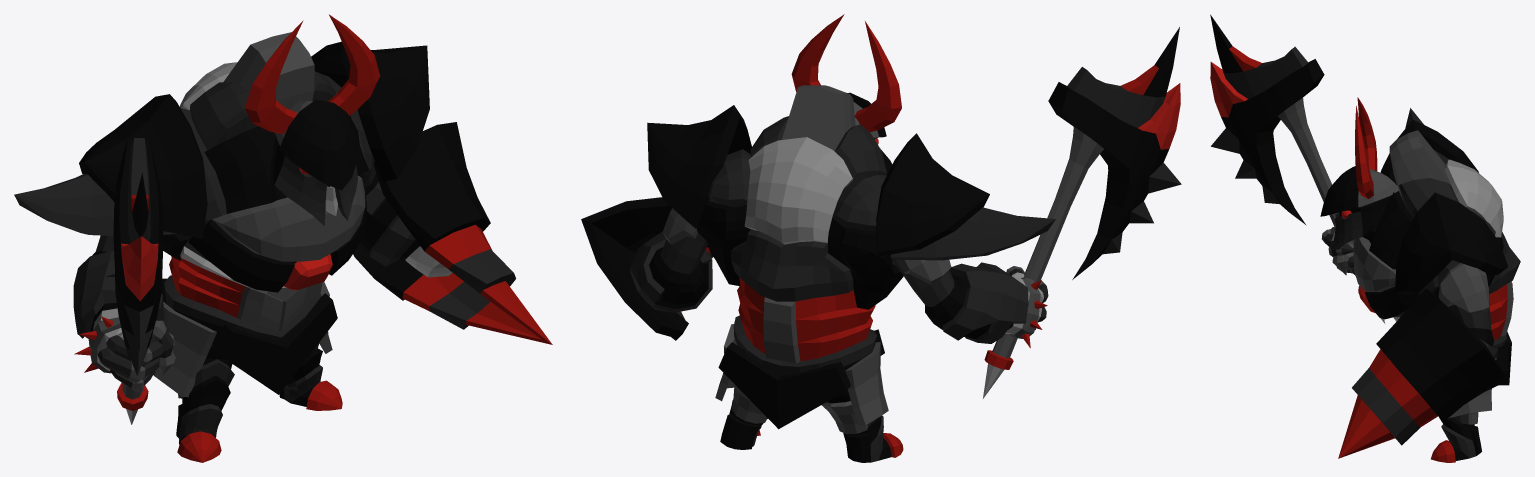
The model's file is black_knight.glb.
The picture shows the model from 3 angles, left to right: view 1: azimuth 30°, elevation 25°; view 2: azimuth 150°, elevation 25°; view 3: azimuth 270°, elevation 25°; orthographic projection. The views are drawn at different scales.
Visible parts, largest first — view 1: BlackKnightMesh, ShieldMesh, AxeMesh; view 2: BlackKnightMesh, AxeMesh, ShieldMesh; view 3: BlackKnightMesh, ShieldMesh, AxeMesh.
Part boxes in pixels (x1,y1,x2,y2): BlackKnightMesh: (14,14,452,462); ShieldMesh: (353,122,552,344); AxeMesh: (113,138,163,424); BlackKnightMesh: (630,14,1055,462); AxeMesh: (983,27,1181,398); ShieldMesh: (581,197,713,340); BlackKnightMesh: (1320,97,1520,462); ShieldMesh: (1338,288,1506,458); AxeMesh: (1210,14,1384,323).
Bounding box in the file's own units: 2.63 × 2.25 × 1.9.
Materials: 1 (1 with a texture image).
